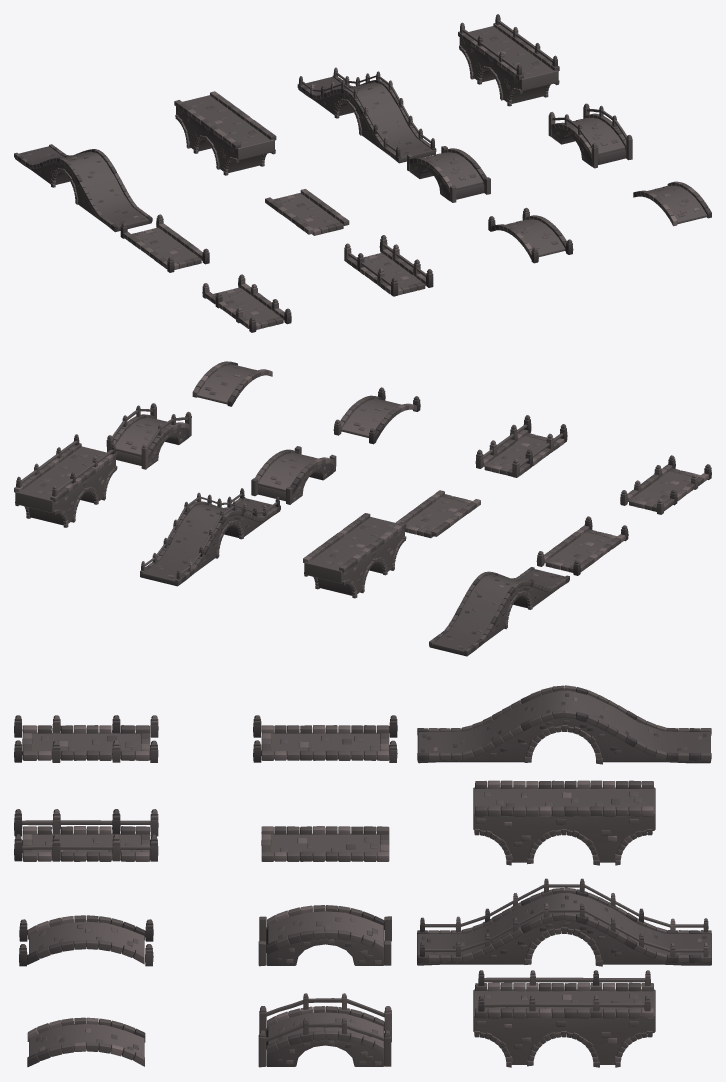
The model's file is Stone_Bridges_01.fbx.
The picture shows the model from 3 angles, top to bottom: view 1: azimuth 30°, elevation 25°; view 2: azimuth 150°, elevation 25°; view 3: azimuth 270°, elevation 25°; orthographic projection. The views are drawn at different scales.
Visible parts, largest first — view 1: Bridge.11, Bridge.12, Bridge.09, Bridge.10, Bridge.08, Bridge.07, Bridge.02, Bridge.01, Bridge.05, Bridge.06, Bridge.03, Bridge.04; view 2: Bridge.11, Bridge.12, Bridge.09, Bridge.10, Bridge.08, Bridge.07, Bridge.02, Bridge.01, Bridge.05, Bridge.03, Bridge.06, Bridge.04; view 3: Bridge.11, Bridge.09, Bridge.12, Bridge.10, Bridge.08, Bridge.07, Bridge.02, Bridge.01, Bridge.05, Bridge.03, Bridge.06, Bridge.04.
Boxes of the visible parts, box(x1,y1,x2,y2) form: Bridge.11: box(297, 67, 436, 163); Bridge.12: box(458, 14, 559, 106); Bridge.09: box(14, 144, 152, 232); Bridge.10: box(174, 91, 276, 175); Bridge.08: box(548, 103, 632, 168); Bridge.07: box(407, 146, 490, 202); Bridge.02: box(344, 235, 433, 296); Bridge.01: box(202, 274, 291, 332); Bridge.05: box(120, 214, 209, 272); Bridge.06: box(265, 189, 349, 235); Bridge.03: box(488, 207, 573, 263); Bridge.04: box(633, 181, 711, 226); Bridge.11: box(140, 488, 280, 586); Bridge.12: box(14, 434, 117, 527); Bridge.09: box(429, 567, 569, 656); Bridge.10: box(303, 513, 406, 598); Bridge.08: box(106, 403, 191, 469); Bridge.07: box(251, 446, 336, 504); Bridge.02: box(475, 415, 567, 477); Bridge.01: box(620, 455, 711, 514); Bridge.05: box(536, 516, 628, 575); Bridge.03: box(333, 387, 420, 444); Bridge.06: box(395, 490, 480, 538); Bridge.04: box(192, 361, 272, 406); Bridge.11: box(417, 878, 711, 966); Bridge.09: box(417, 685, 711, 764); Bridge.12: box(473, 970, 655, 1067); Bridge.10: box(473, 780, 655, 865); Bridge.08: box(258, 993, 391, 1067); Bridge.07: box(258, 905, 391, 966); Bridge.02: box(14, 809, 158, 861); Bridge.01: box(14, 715, 158, 762); Bridge.05: box(253, 715, 397, 762); Bridge.03: box(19, 915, 153, 966); Bridge.06: box(261, 826, 389, 861); Bridge.04: box(27, 1017, 145, 1066).
Bounding box in the file's own units: 10184 × 1005 × 9036.
